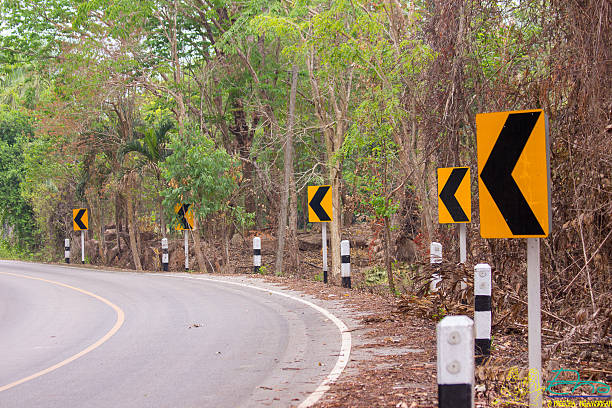left turn: (478, 115, 550, 238), (438, 168, 471, 222), (308, 186, 333, 222), (173, 201, 196, 230), (72, 208, 89, 231)
